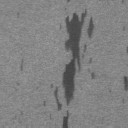red iron: (61, 8, 88, 108), (54, 87, 62, 112), (86, 16, 94, 38), (62, 109, 71, 128), (123, 76, 128, 93)
